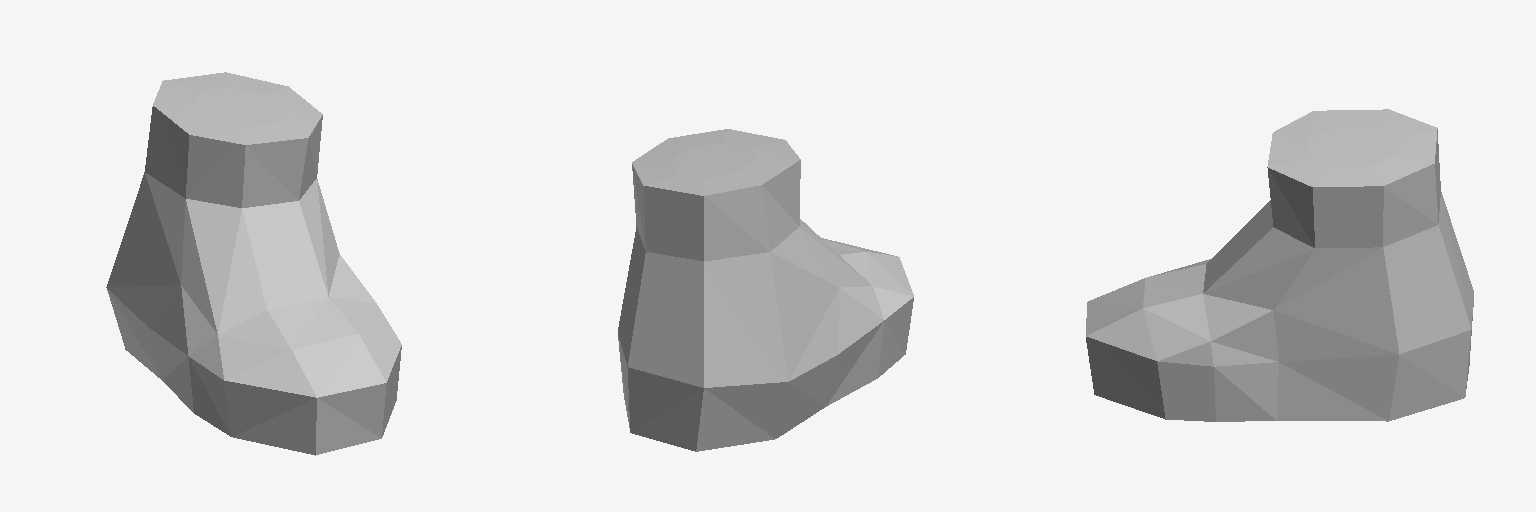
Rendered from kei footright.obj.
3 views of the same model, side by side, from view 1: azimuth 30°, elevation 25°; view 2: azimuth 150°, elevation 25°; view 3: azimuth 270°, elevation 25° (orthographic).
Visible parts, largest first — view 1: model459; view 2: model459; view 3: model459.
Boxes of the visible parts, x1=… form: model459: x1=106, y1=72, x2=401, y2=455; model459: x1=618, y1=129, x2=913, y2=451; model459: x1=1086, y1=109, x2=1473, y2=421.
Bounding box in the file's own units: 1.9 × 2.43 × 3.49.